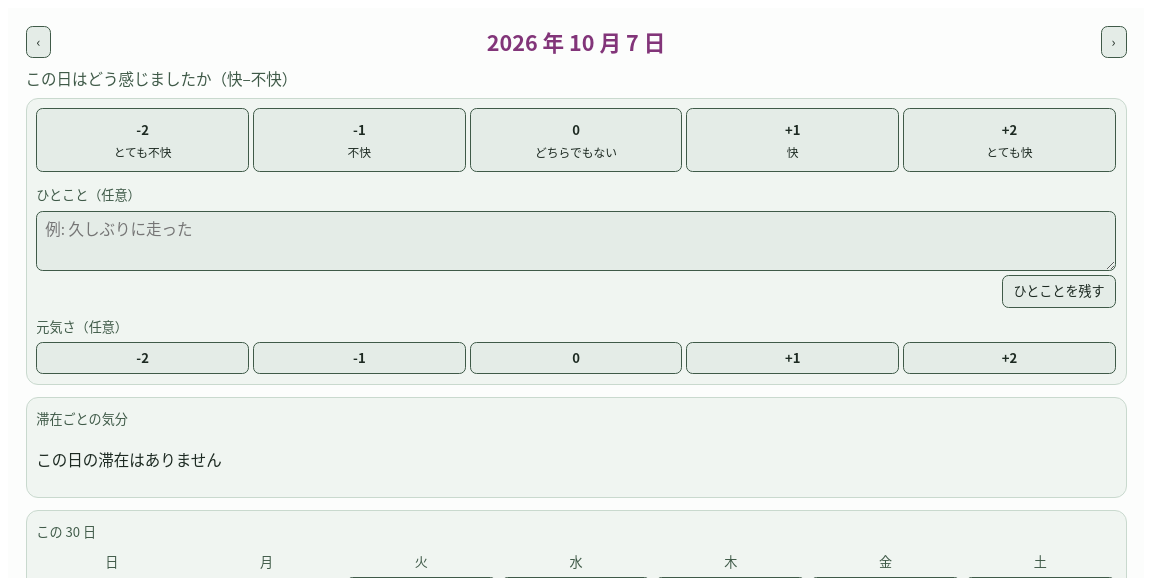
it: 押した瞬間に保存する › 2026-10-08 に 2026-10-07 の画面で快–不快を押すと、保存と対象の日 2026-10-07 と記入の日時が出る
Click the button with test id "valence-1".
click(793, 140)  # box [686,108,899,172]
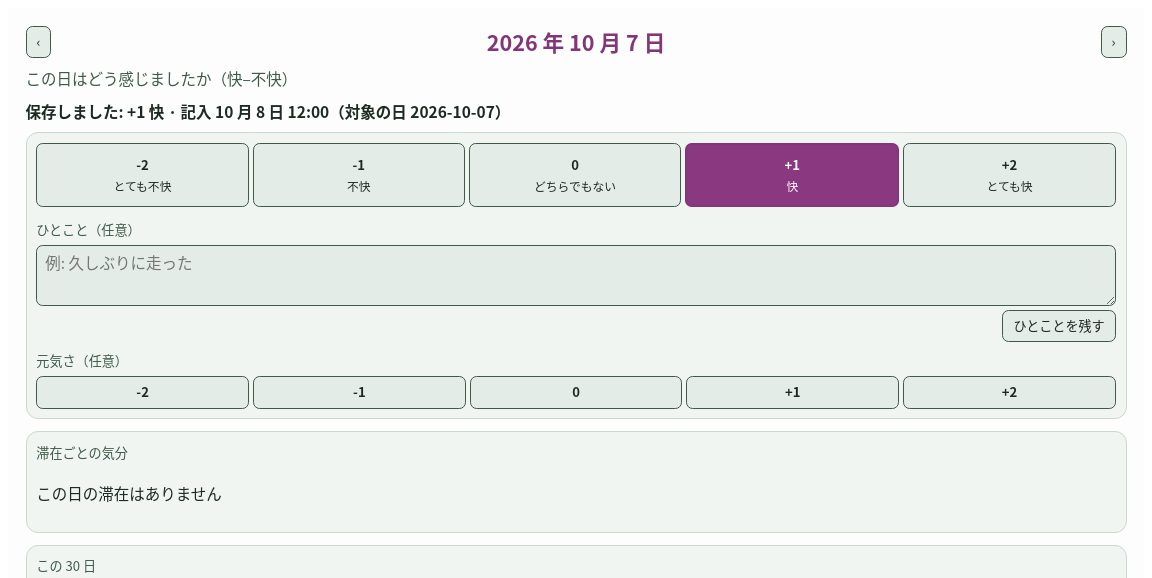
expect the text with test id "feel-notice-ok" shows "保存しました": met, box [26,100,510,122]
expect the text with test id "feel-notice-ok" shows "対象の日 2026-10-07": met, box [26,100,510,122]
expect the text with test id "feel-notice-ok" shows "記入 10 月 8 日 12:00": met, box [26,100,510,122]
